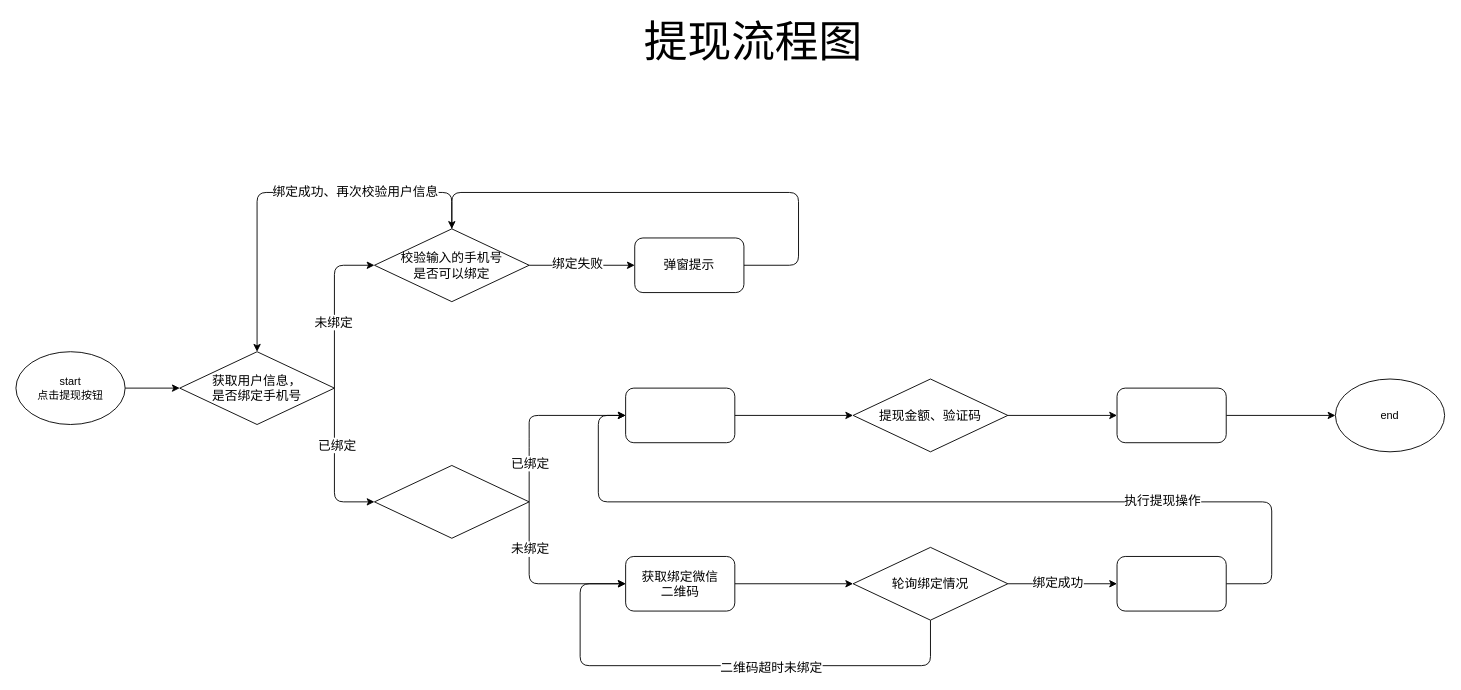
Some shapes in this 1461 by 690 pixel diagram are drawn without their labels. Each missing label, with the box of its shape:
提现成功: (1116, 387, 1226, 443)
提现流程: (625, 387, 735, 443)
绑定成功 获取微信头像昵称: (1116, 556, 1226, 611)
获取微信绑定信息: (374, 465, 529, 538)
